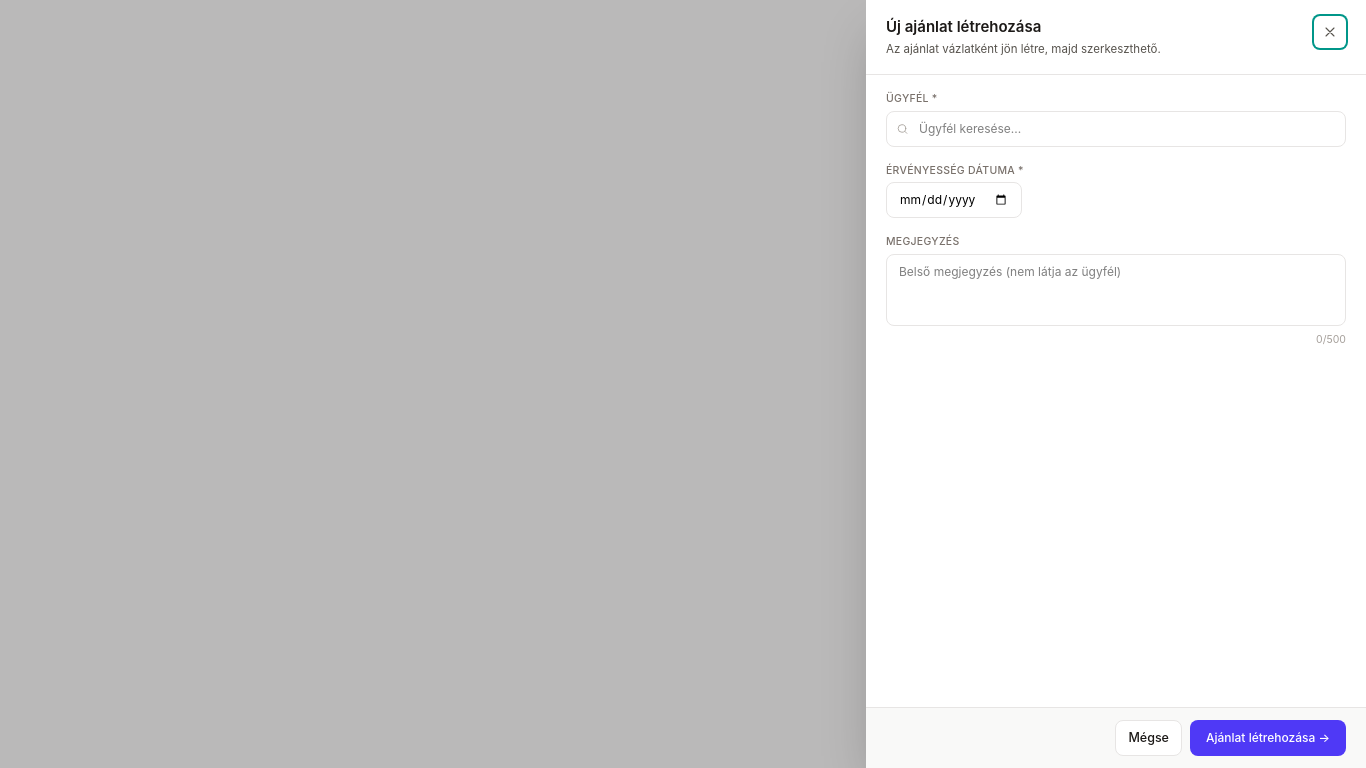
Scenario: CreateQuoteSlideOver › shows customer results from API when typing
The width and height of the screenshot is (1366, 768).
Type "Kft" into the field with placeholder "Ügyfél keresése..." at [1116, 128], box [886, 110, 1346, 146]
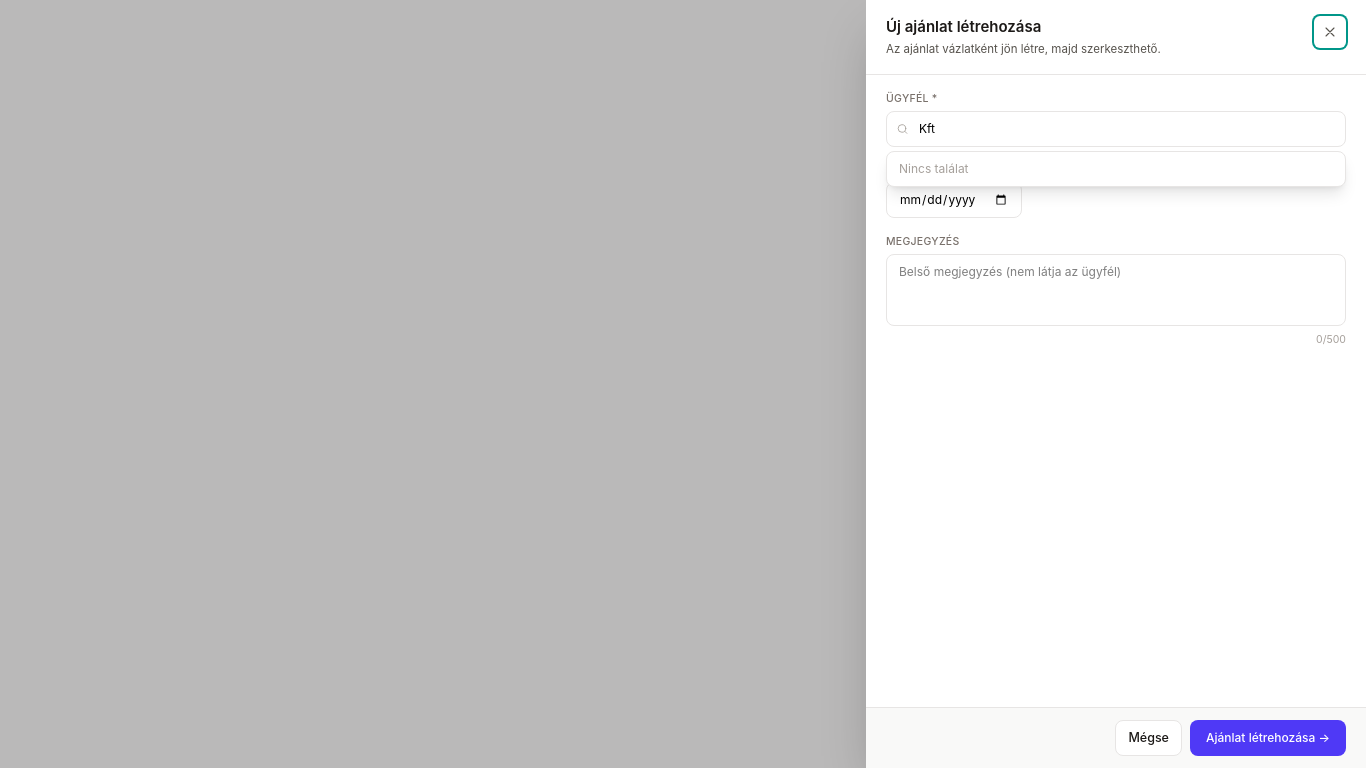
Focus the field with placeholder "Ügyfél keresése..." at [1116, 128], box [886, 110, 1346, 146]
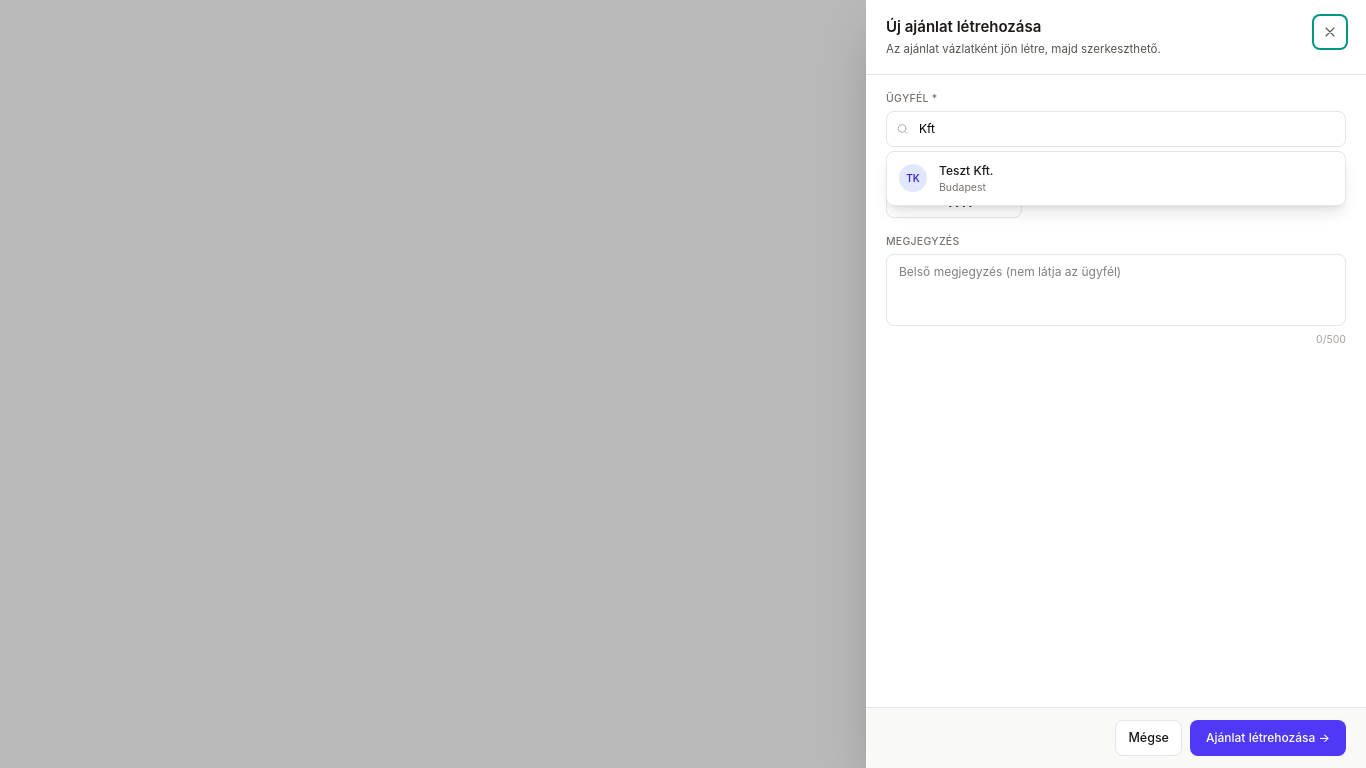
Expected: the text "Teszt Kft." is shown, [939, 162, 994, 180]
